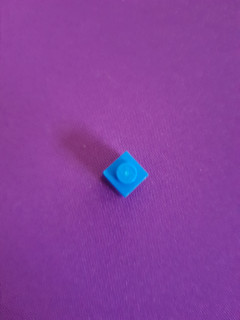1x1 blue: (101, 150, 151, 199)
